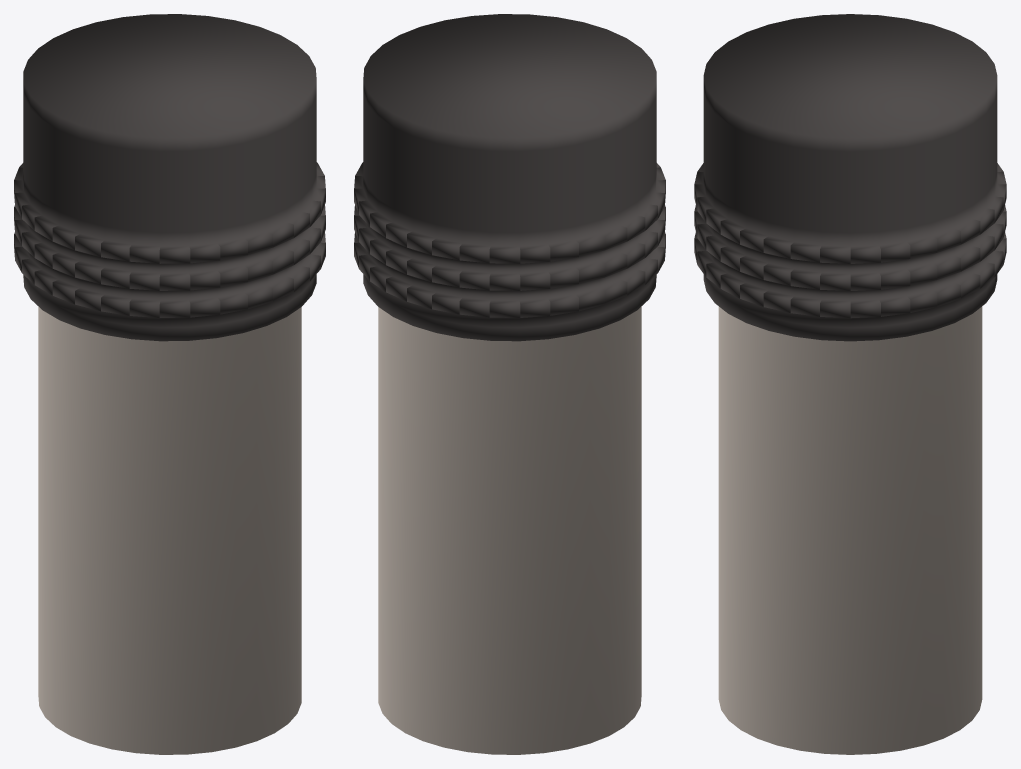
Rendered from glue.fbx.
3 renders of one model, left to right at view 1: azimuth 30°, elevation 25°; view 2: azimuth 150°, elevation 25°; view 3: azimuth 270°, elevation 25°, orthographic.
Parts seen in each view (by area): view 1: Cylinder; view 2: Cylinder; view 3: Cylinder.
Boxes of the visible parts, x1,y1,x2,y2 form: Cylinder: (14, 14, 325, 754); Cylinder: (354, 14, 665, 754); Cylinder: (694, 14, 1006, 754).
Bounding box in the file's own units: 2.79 × 6.15 × 2.79.
